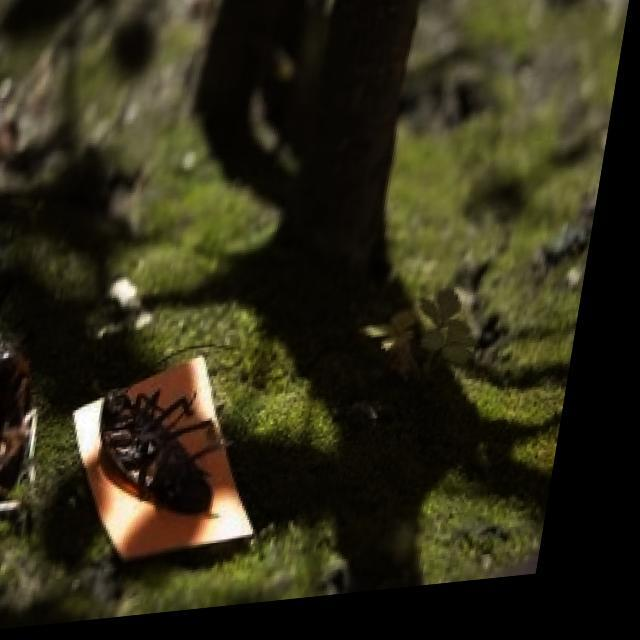cockroach: (86, 368, 231, 525)
